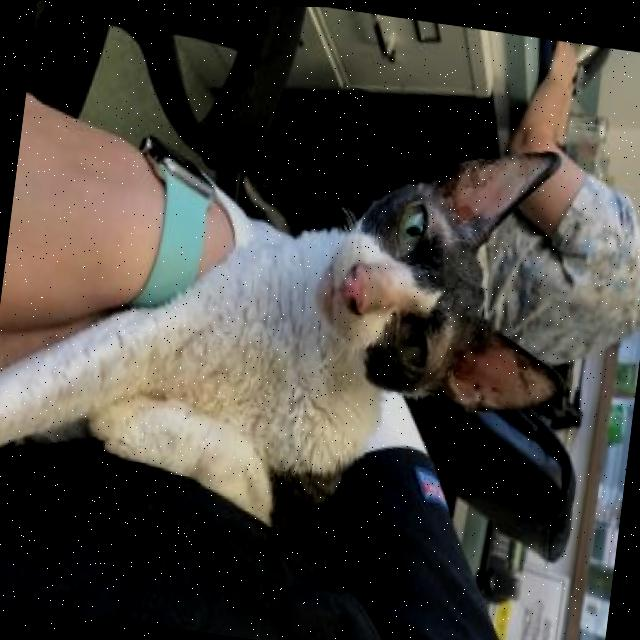Cornish Rex: (0, 67, 604, 574)
